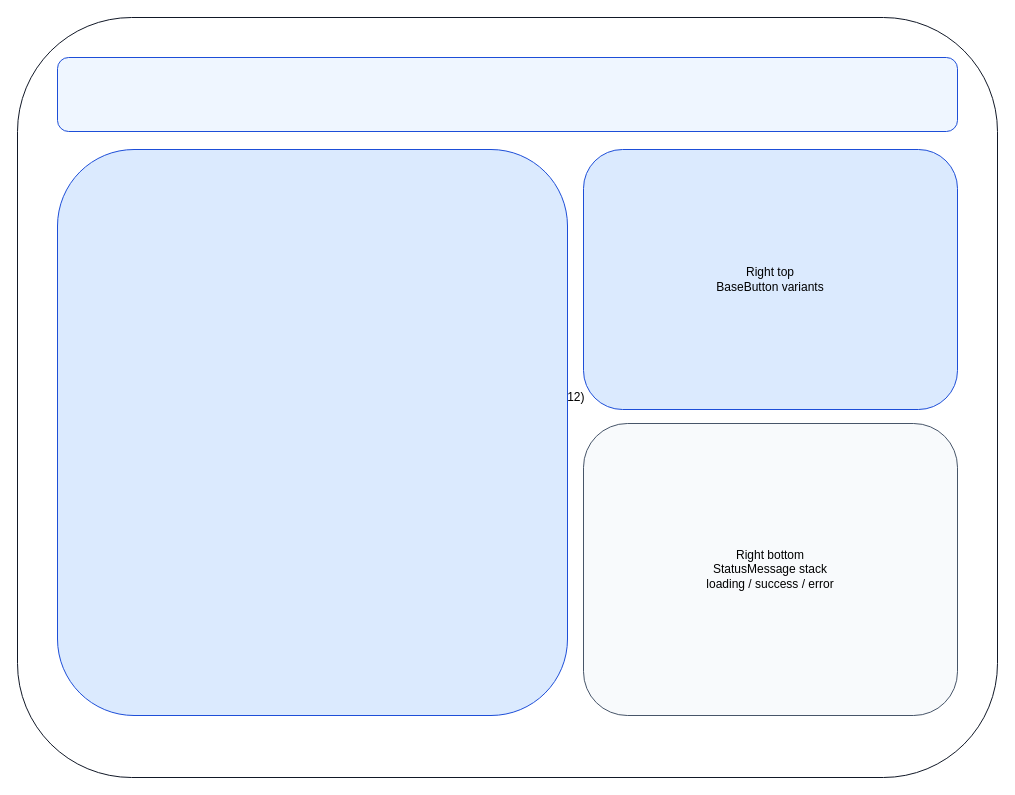
The diagram is 1015 pixels wide and 795 high, and some of its shapes have lost their labels. Each missing label, with the centre of its shape:
Left column BaseField / BaseTable: the point at 312,432
PageShell + typography scale: the point at 507,94
